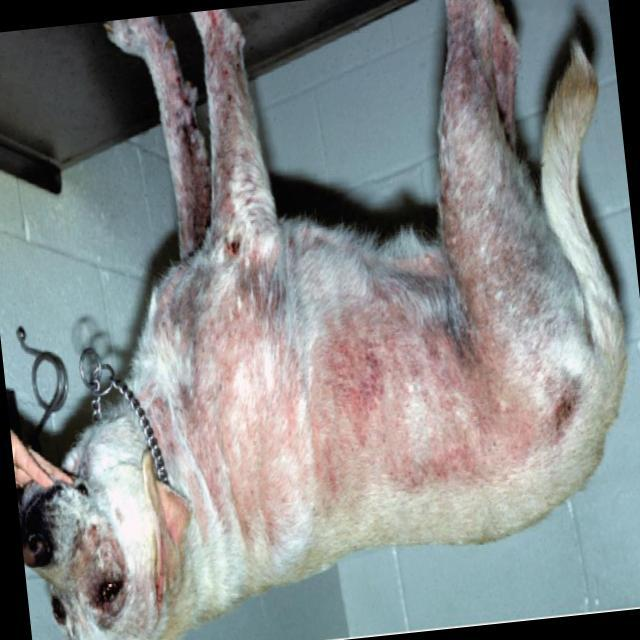allergic dermatitis: (297, 300, 549, 481), (187, 303, 301, 539)
